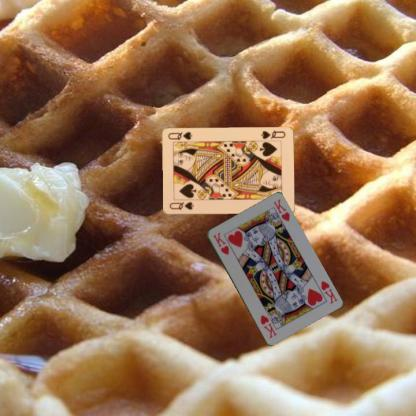Kh: (210, 229, 230, 256), (318, 278, 338, 305)
Qs: (166, 200, 195, 212), (258, 128, 287, 140)
